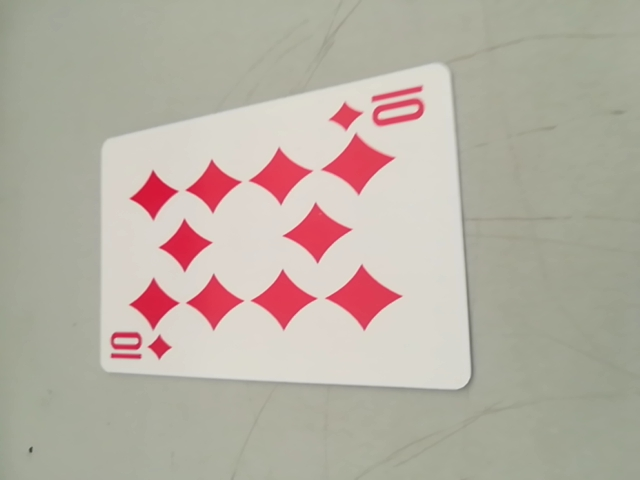fk 10: (330, 82, 434, 138), (103, 325, 176, 371)
